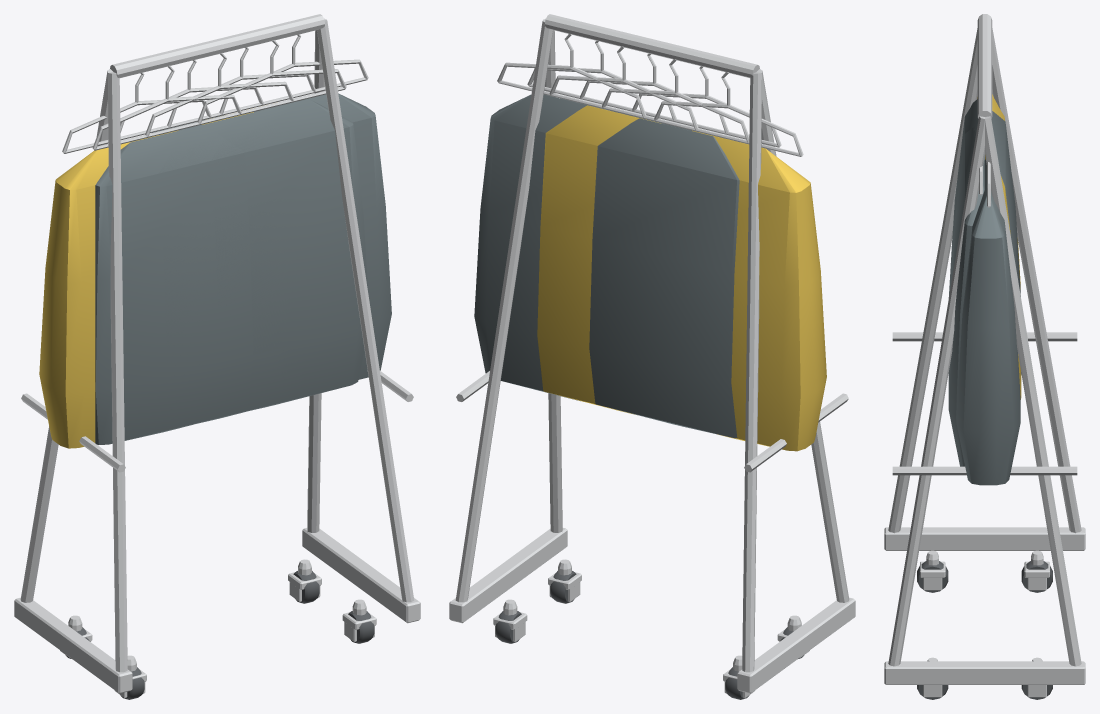
File: laundrette-and-cleaning-wrapped-garment-batch-6a5747ba__25562.glb
3 views of the same model, side by side, from view 1: azimuth 30°, elevation 25°; view 2: azimuth 150°, elevation 25°; view 3: azimuth 270°, elevation 25° (orthographic). The views are drawn at different scales.
Parts seen in each view (by area): view 1: wrapped-garment-batch; view 2: wrapped-garment-batch; view 3: wrapped-garment-batch.
Boxes of the visible parts, <box> form: wrapped-garment-batch: <box>14,14,420,699</box>; wrapped-garment-batch: <box>449,14,855,699</box>; wrapped-garment-batch: <box>884,14,1085,699</box>.
Size of the model in its own units: 0.93 by 1.6 by 0.5.
